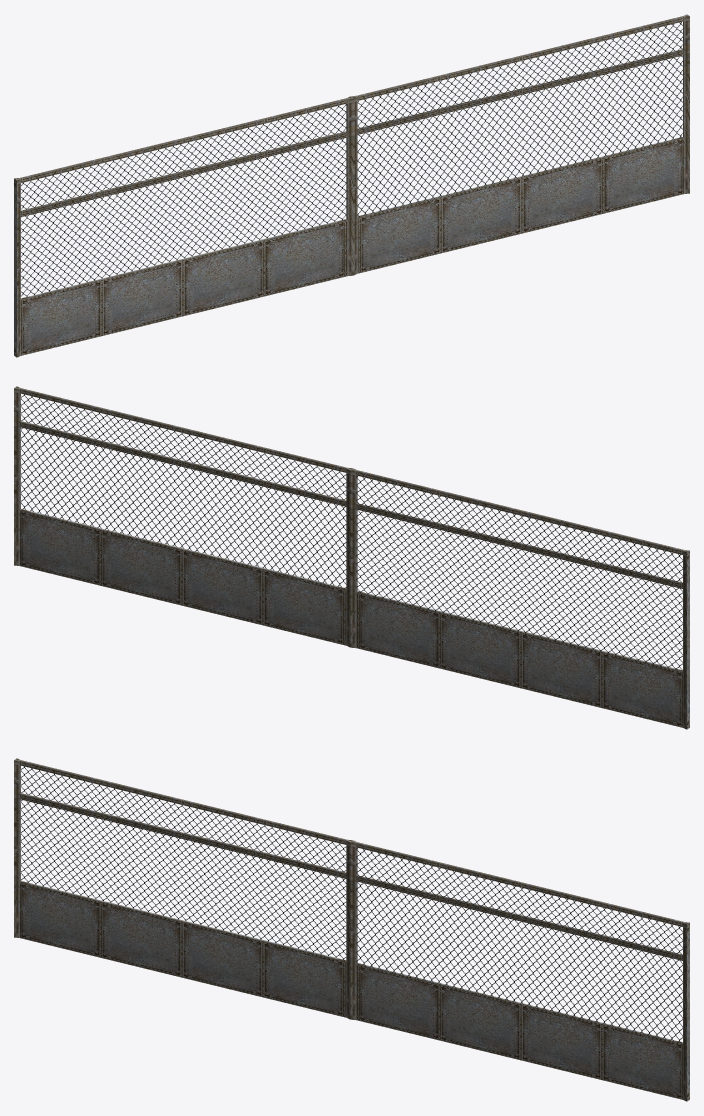
The model's file is M10_Z1_ChainGate_Locked.glb.
3 renders of one model, top to bottom at view 1: azimuth 30°, elevation 25°; view 2: azimuth 150°, elevation 25°; view 3: azimuth 330°, elevation 25°, orthographic.
Visible parts, largest first — view 1: M10_Z1_CHAINGATE_LOCKED; view 2: M10_Z1_CHAINGATE_LOCKED; view 3: M10_Z1_CHAINGATE_LOCKED.
Boxes of the visible parts, x1,y1,x2,y2 form: M10_Z1_CHAINGATE_LOCKED: (14,14,689,357); M10_Z1_CHAINGATE_LOCKED: (14,386,689,729); M10_Z1_CHAINGATE_LOCKED: (14,758,689,1101).
Size of the model in its own units: 8 by 2.01 by 0.06.
Materials: 2 (2 with a texture image).
